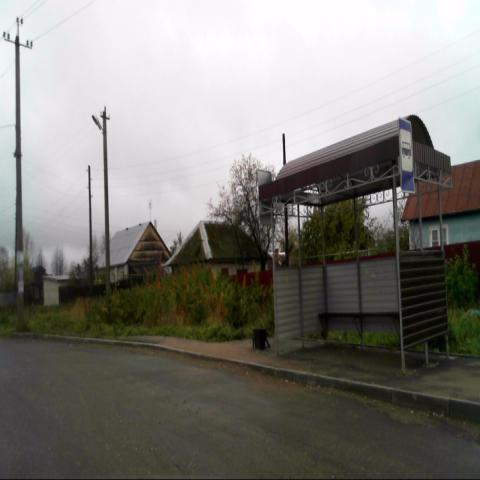5_16: (398, 117, 415, 192)
